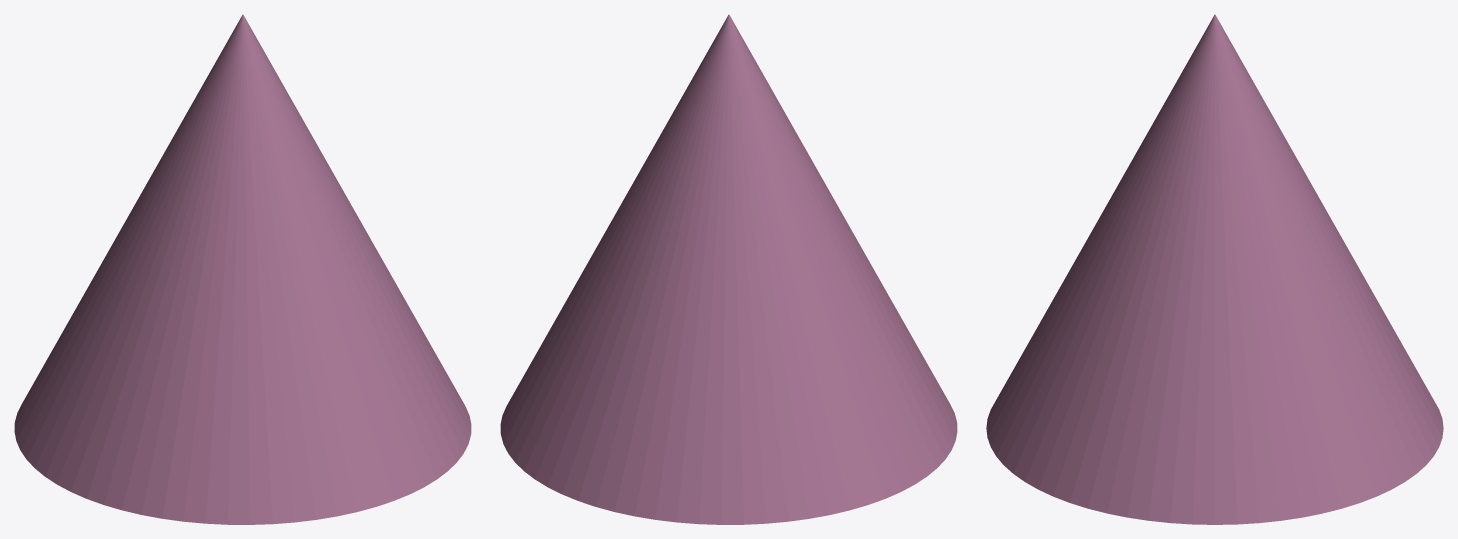
The picture shows the model from 3 angles, left to right: view 1: azimuth 30°, elevation 25°; view 2: azimuth 150°, elevation 25°; view 3: azimuth 270°, elevation 25°; orthographic projection.
Visible parts, largest first — view 1: Cone; view 2: Cone; view 3: Cone.
Part boxes in pixels (left/top/right/bottom): Cone: left=14, top=14, right=471, bottom=524; Cone: left=500, top=14, right=957, bottom=524; Cone: left=986, top=14, right=1443, bottom=524.
Bounding box in the file's own units: 3.88 × 3.88 × 3.88.
